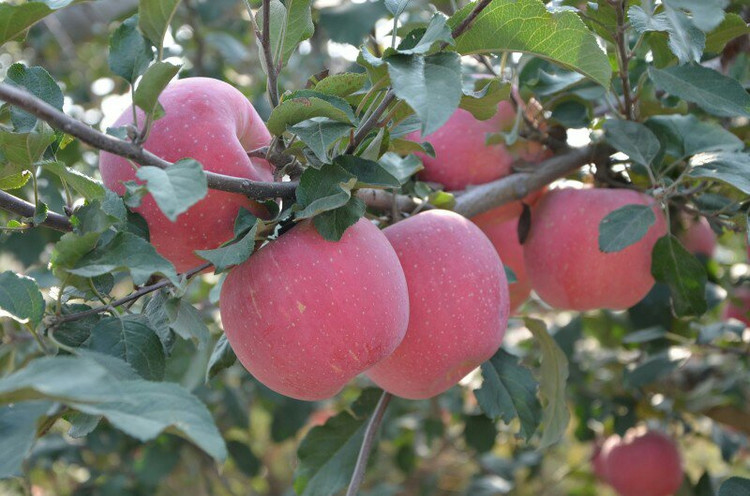apple: (222, 213, 410, 400)
obscured(1)_apple: (364, 209, 510, 398), (525, 186, 662, 306)
obscured(2)_apple: (99, 75, 282, 271)
obscured(3)_apple: (404, 72, 553, 216)
